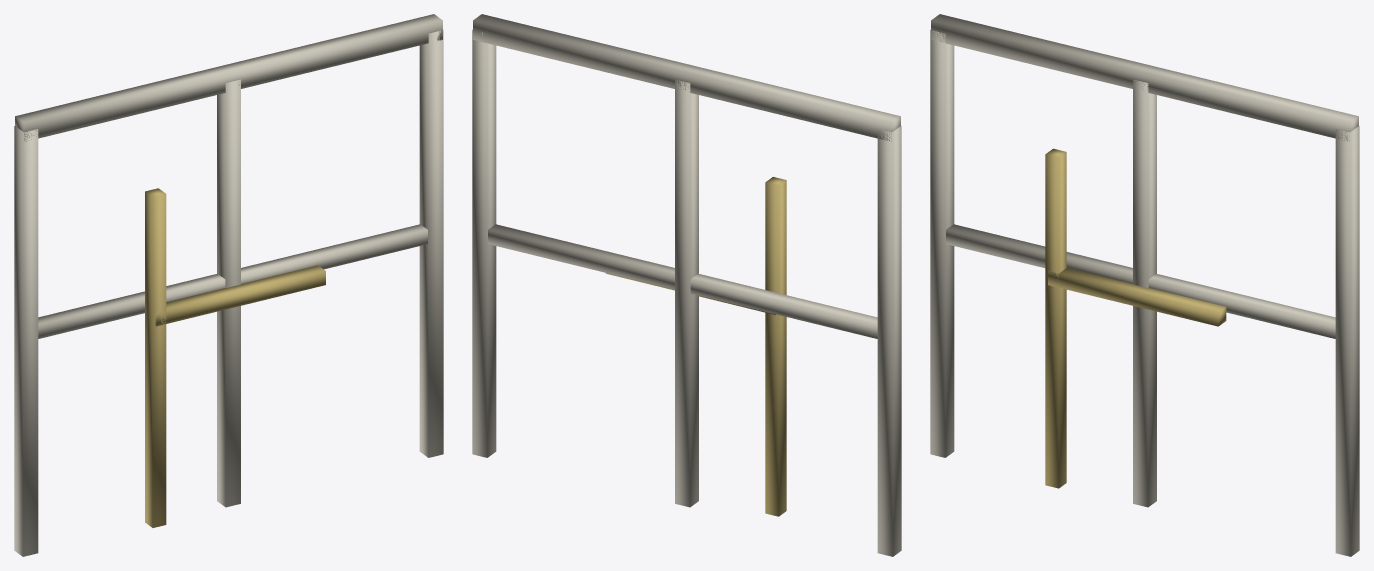
The model's file is civic_gate_l120_h120.glb.
3 views of the same model, side by side, from view 1: azimuth 30°, elevation 25°; view 2: azimuth 150°, elevation 25°; view 3: azimuth 330°, elevation 25° (orthographic).
Visible parts, largest first — view 1: world; view 2: world; view 3: world.
Boxes of the visible parts, x1=… form: world: x1=14, y1=14, x2=443, y2=556; world: x1=472, y1=14, x2=901, y2=556; world: x1=930, y1=14, x2=1359, y2=556.
Bounding box in the file's own units: 1.25 × 1.23 × 0.0825.
